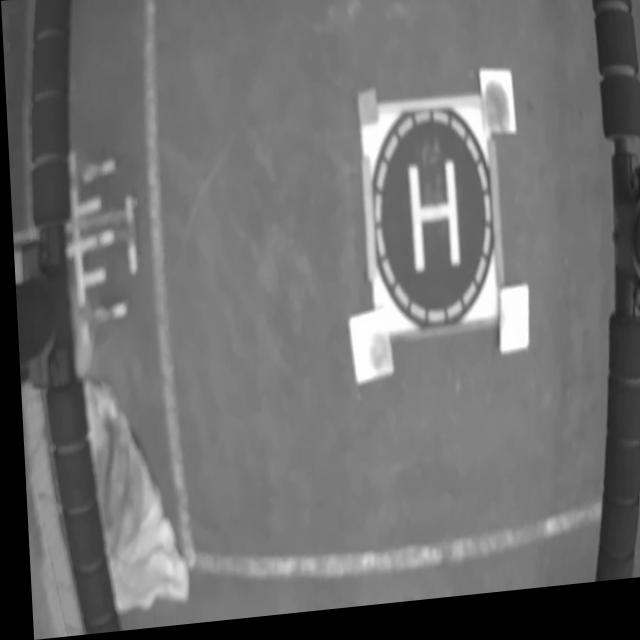Helipad: (405, 167, 456, 281)
